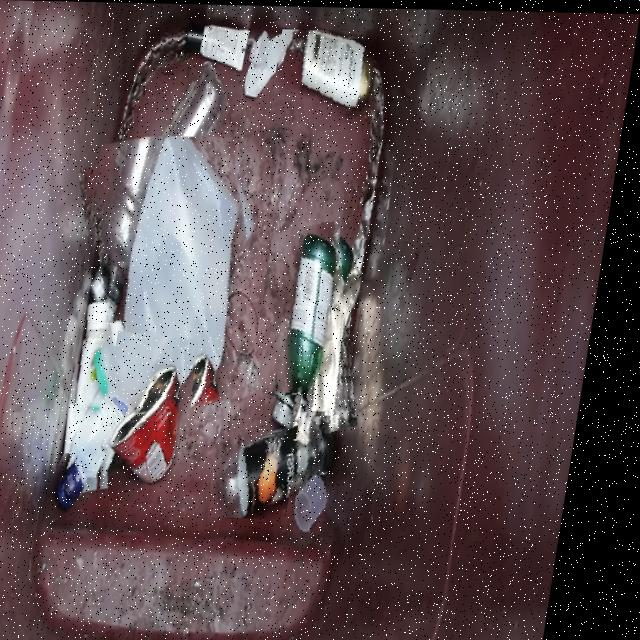litter: (70, 134, 292, 425), (263, 220, 384, 438), (103, 345, 206, 504), (221, 411, 353, 518), (272, 28, 393, 121), (299, 472, 356, 545), (60, 453, 106, 519), (274, 392, 316, 433)
